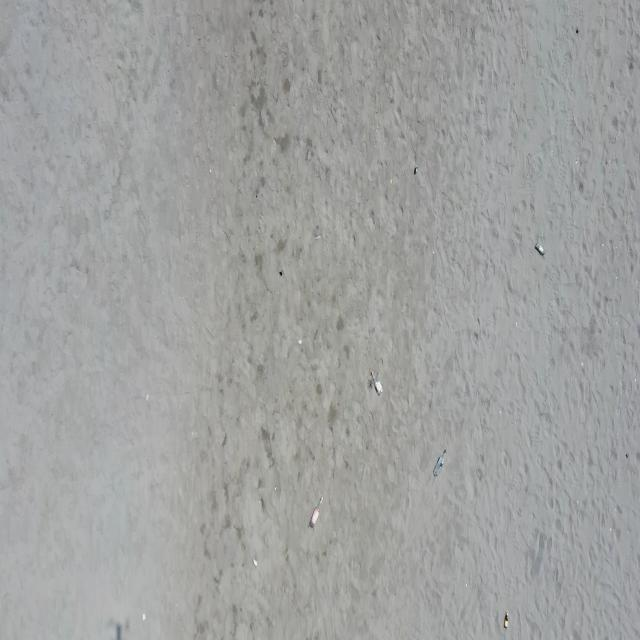glass: (309, 495, 324, 528), (433, 449, 448, 476), (371, 370, 383, 396), (535, 243, 545, 255), (504, 612, 508, 628), (252, 558, 258, 568), (415, 165, 418, 172)
